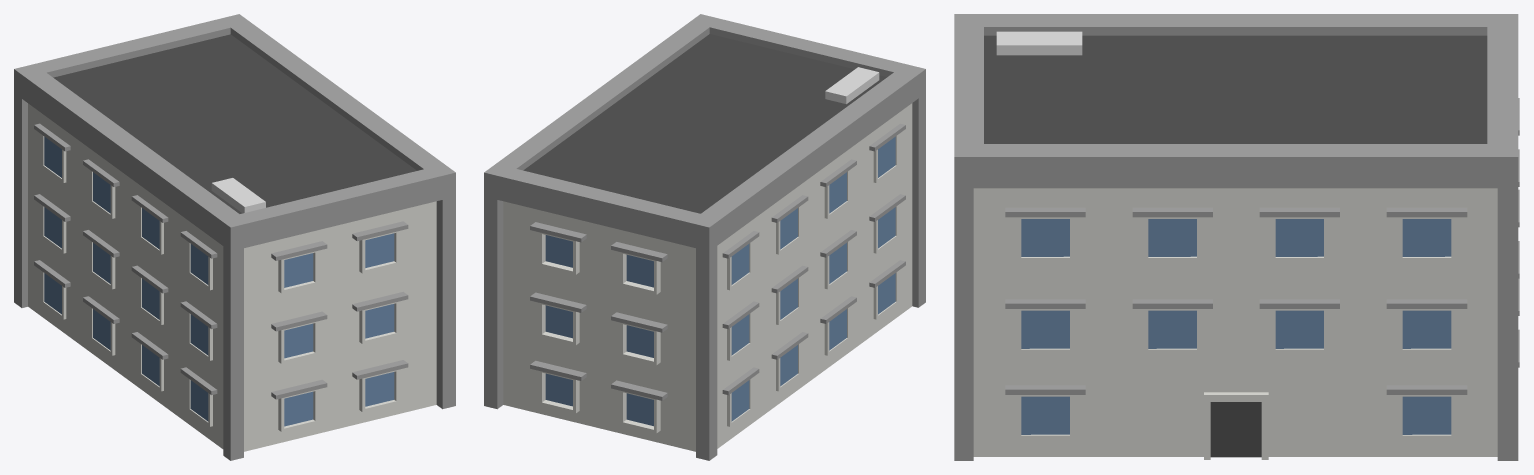
File: Building_White.fbx
3 renders of one model, left to right at view 1: azimuth 30°, elevation 25°; view 2: azimuth 150°, elevation 25°; view 3: azimuth 270°, elevation 25°, orthographic. The views are drawn at different scales.
Parts seen in each view (by area): view 1: polySurface36, polySurface4, polySurface9, polySurface10, polySurface3, polySurface8, polySurface11, pPlane21, pPlane23, pPlane19, pPlane20, pPlane22 (+25 smaller); view 2: polySurface36, polySurface7, polySurface1, polySurface2, polySurface6, polySurface5, polySurface12, pPlane2, pPlane3, pPlane4, pPlane1, pPlane5 (+25 smaller); view 3: polySurface36, pPlane34, pPlane29, pPlane33, pPlane31, pPlane32, pPlane36, pPlane30, pPlane28, pPlane25, pPlane26, pPlane27 (+10 smaller).
Part boxes in pixels (bbox=[...]): polySurface36: bbox=[14, 14, 455, 460]; polySurface4: bbox=[271, 241, 327, 293]; polySurface9: bbox=[352, 221, 408, 273]; polySurface10: bbox=[271, 311, 327, 363]; polySurface3: bbox=[352, 360, 408, 412]; polySurface8: bbox=[352, 291, 408, 343]; polySurface11: bbox=[271, 379, 327, 431]; pPlane21: bbox=[365, 304, 394, 338]; pPlane23: bbox=[284, 391, 313, 426]; pPlane19: bbox=[284, 253, 313, 287]; pPlane20: bbox=[365, 233, 394, 267]; pPlane22: bbox=[284, 323, 313, 358]; polySurface36: bbox=[484, 14, 925, 460]; polySurface7: bbox=[530, 222, 586, 274]; polySurface1: bbox=[611, 312, 667, 364]; polySurface2: bbox=[530, 292, 586, 345]; polySurface6: bbox=[611, 380, 667, 433]; polySurface5: bbox=[611, 242, 667, 294]; polySurface12: bbox=[530, 360, 586, 413]; pPlane2: bbox=[626, 393, 653, 426]; pPlane3: bbox=[626, 325, 653, 357]; pPlane4: bbox=[545, 305, 572, 338]; pPlane1: bbox=[545, 373, 572, 406]; pPlane5: bbox=[545, 235, 572, 267]; polySurface36: bbox=[954, 14, 1518, 460]; pPlane34: bbox=[1210, 402, 1261, 457]; pPlane29: bbox=[1402, 310, 1451, 348]; pPlane33: bbox=[1402, 396, 1451, 434]; pPlane31: bbox=[1148, 310, 1196, 348]; pPlane32: bbox=[1021, 396, 1069, 434]; pPlane36: bbox=[1021, 310, 1069, 348]; pPlane30: bbox=[1275, 310, 1323, 348]; pPlane28: bbox=[1402, 219, 1451, 256]; pPlane25: bbox=[1021, 219, 1069, 256]; pPlane26: bbox=[1148, 219, 1196, 256]; pPlane27: bbox=[1275, 219, 1323, 256].
Size of the model in its own units: 3.03 by 3 by 5.03.
